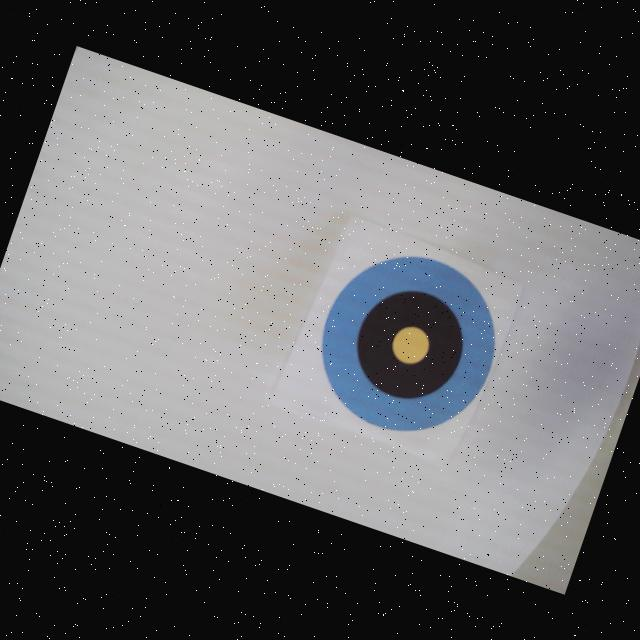COGNITIVE: (298, 232, 518, 458)
